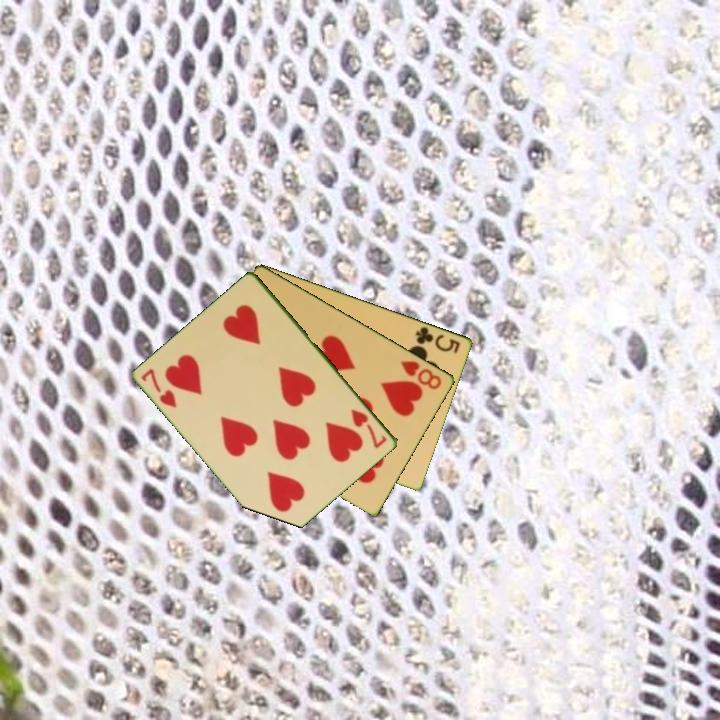5c: (412, 323, 464, 356)
7h: (138, 365, 180, 411), (348, 406, 390, 451)
8h: (397, 357, 445, 392)
